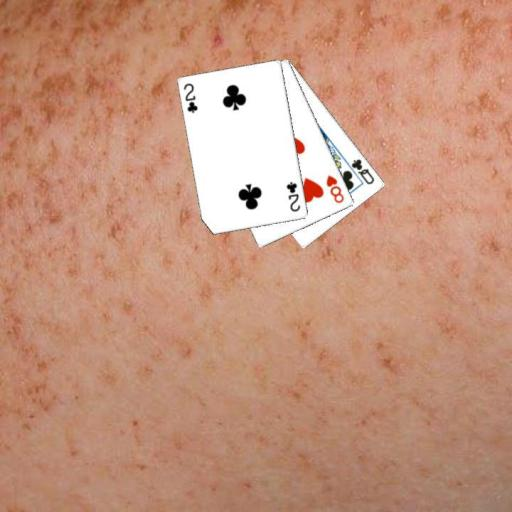2C: (284, 180, 302, 214), (181, 81, 199, 115)
8H: (324, 172, 346, 205)
QC: (349, 156, 376, 186)
